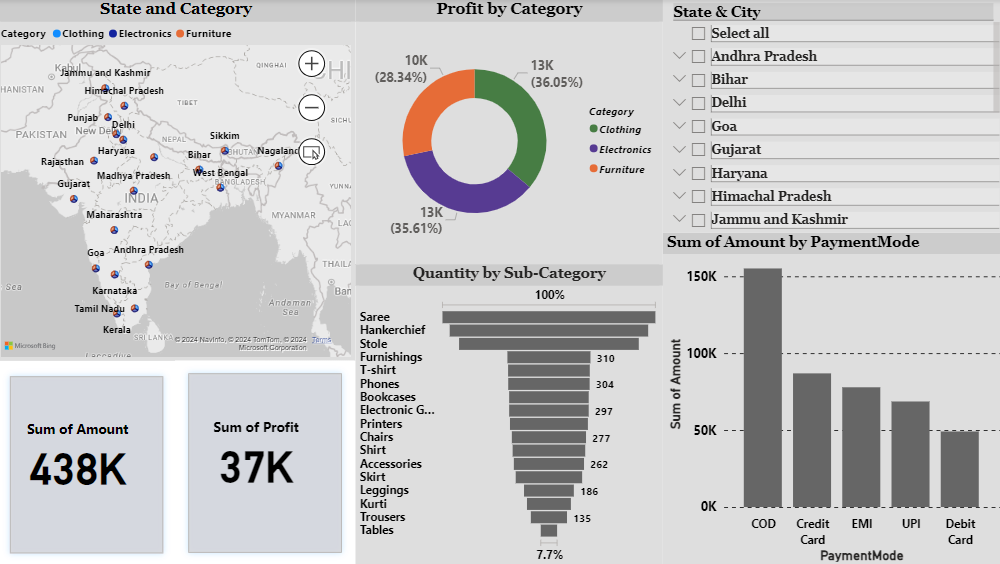

This screenshot's page, from the dashboard's own definition file:
{"tool":"powerbi","page":{"name":"Page 1","canvas":[1280,720],"ordinal":0},"visuals":[{"type":"map","fields":{"Category":["Orders.State"],"Series":["Details.Category"]},"box":[0,0,455,460],"z":0},{"type":"donutChart","title":"Profit by Category","fields":{"Category":["Details.Category"],"Y":["Sum(Details.Profit)"]},"box":[455.7,0,390.9,337.5],"z":1},{"type":"funnel","title":"Quantity by Sub-Category","fields":{"Category":["Details.Sub-Category"],"Y":["Sum(Details.Quantity)"]},"box":[455.7,337.5,390.9,383.2],"z":2},{"type":"cardVisual","fields":{"Data":["Sum(Details.Amount)"]},"box":[0,462.5,227.5,257.5],"z":3},{"type":"cardVisual","fields":{"Data":["Sum(Details.Profit)"]},"box":[227.5,460,227.5,260],"z":4},{"type":"slicer","fields":{"Values":["Orders.State","Orders.City"]},"box":[846.6,0,432.8,297.4],"z":5},{"type":"clusteredColumnChart","fields":{"Category":["Details.PaymentMode"],"Y":["Sum(Details.Amount)"]},"box":[846.6,297.4,432.8,423.3],"z":6}]}

Visuals, with their boxes in screenshot pixels (x1, y1, x2, y2), scaled from the page's 1280x720 canvas onto the 1000x564 screenshot:
map - Orders.State x Details.Category: BBox(0, 0, 355, 360)
"Profit by Category" donutChart: BBox(356, 0, 661, 264)
"Quantity by Sub-Category" funnel: BBox(356, 264, 661, 563)
cardVisual - Sum(Details.Amount): BBox(0, 362, 178, 563)
cardVisual - Sum(Details.Profit): BBox(178, 360, 355, 563)
slicer - Orders.State x Orders.City: BBox(661, 0, 999, 233)
clusteredColumnChart - Details.PaymentMode x Sum(Details.Amount): BBox(661, 233, 999, 563)
